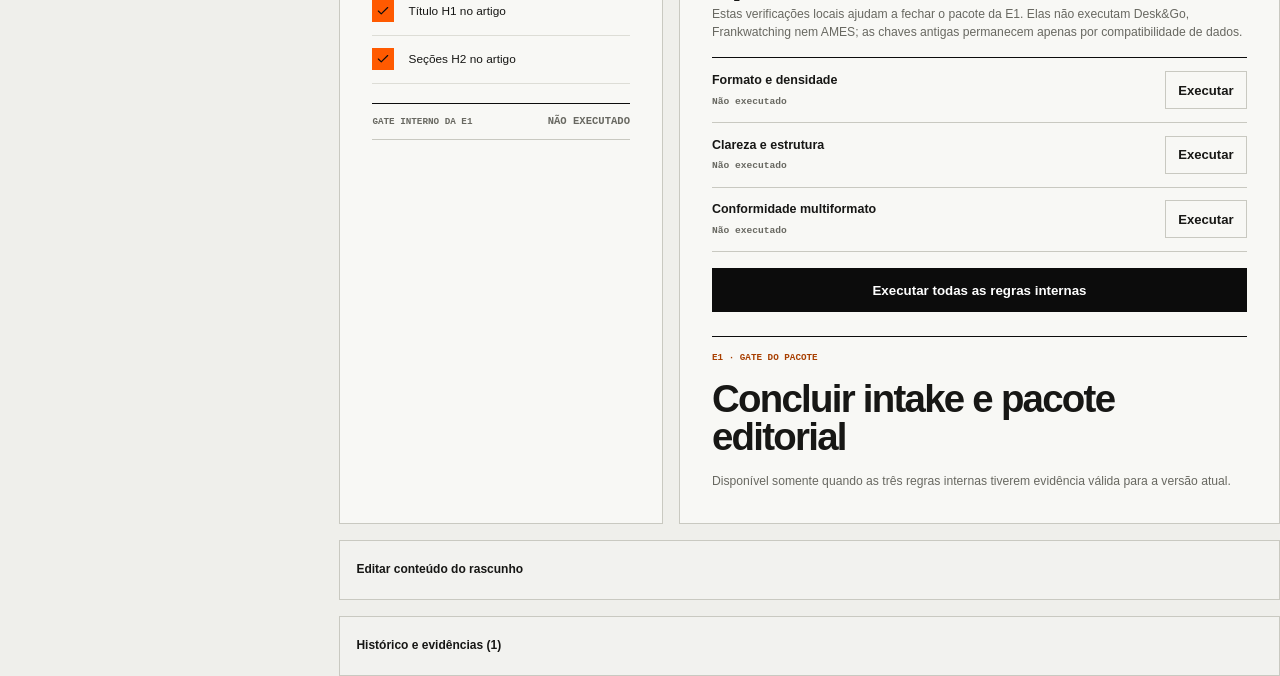
it: Editorial › executa as regras internas dentro da E1 antes de liberar a E2 oficial
(page scrolled)
Expected: the number of buttons "Executar" is 3, [1165, 71, 1247, 109]; [1165, 136, 1247, 174]; [1165, 200, 1247, 238]
Expected: the text "não executam desk&go, frankwatching nem ames" is shown, [712, 7, 1242, 39]
Click the button "Executar todas as regras internas" at (980, 290), box [712, 268, 1247, 312]
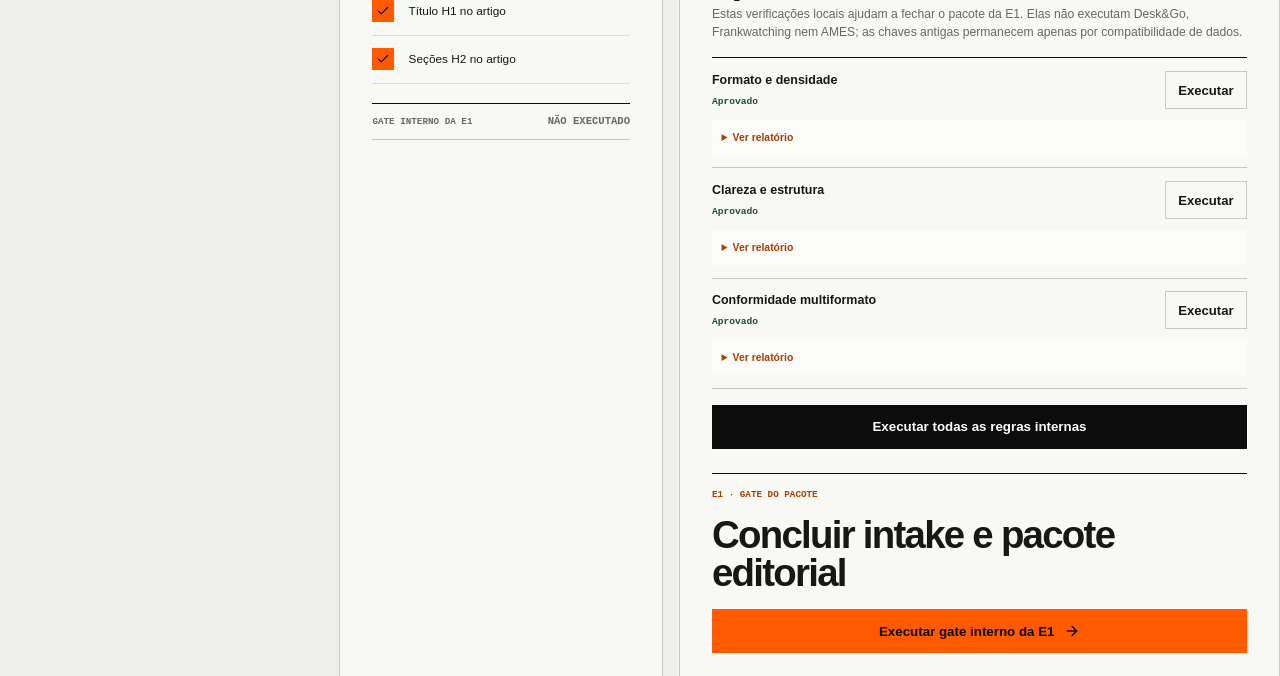
Click the button "Executar gate interno da E1" at (980, 631), box [712, 609, 1247, 653]
(page scrolled)
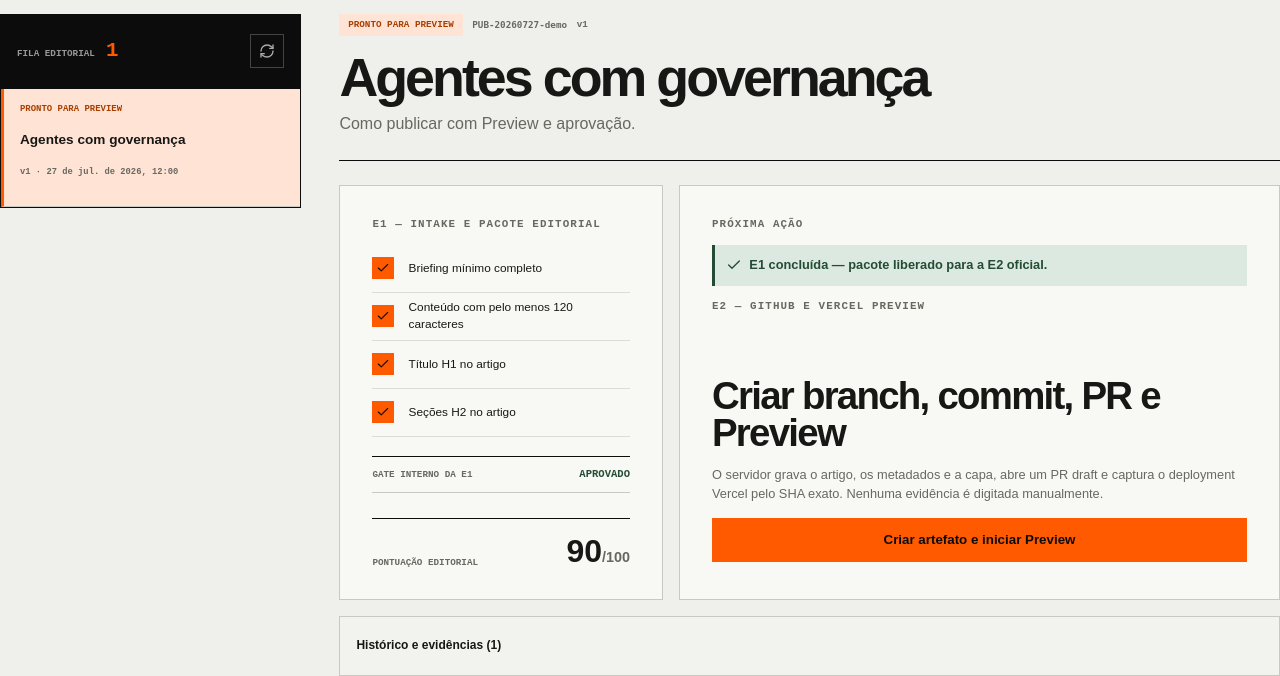
Now the heading "Criar branch, commit, PR e Preview" is shown, box [712, 374, 1160, 454]
